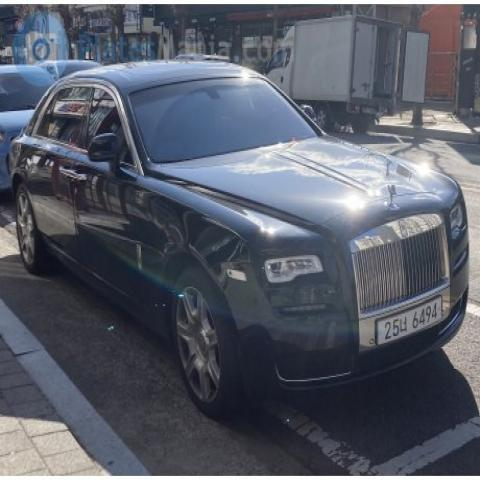LP: (369, 289, 448, 356)
